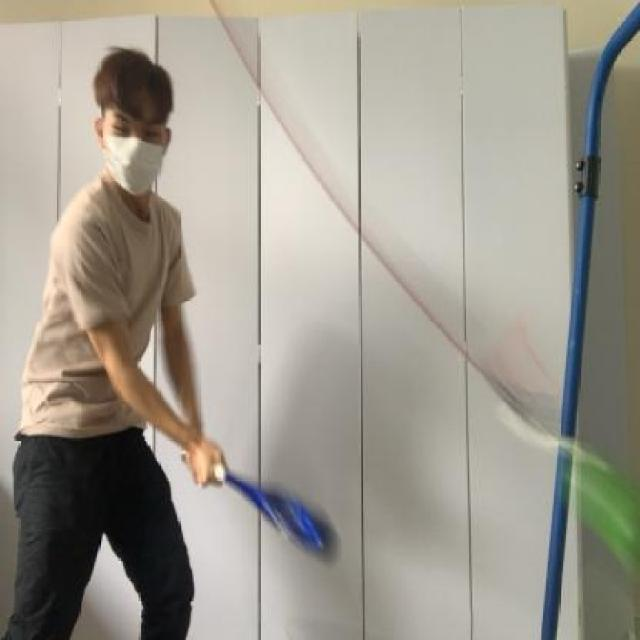baseball: (571, 455, 640, 574)
